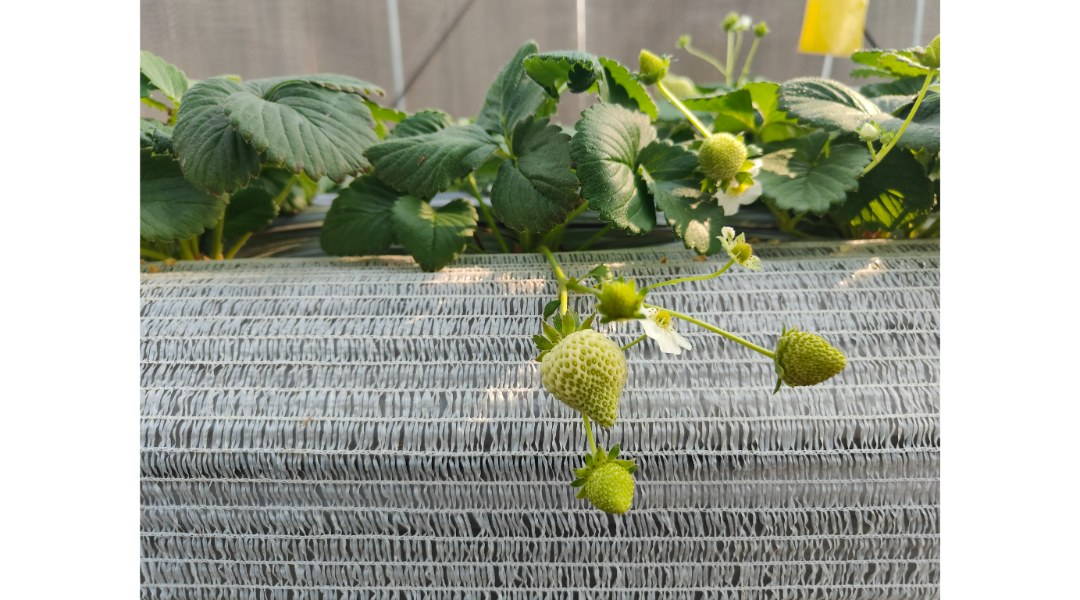berry: (519, 318, 628, 434), (759, 326, 860, 397), (558, 451, 642, 521), (696, 121, 754, 191), (590, 266, 642, 332), (715, 229, 771, 262)
flower: (627, 298, 693, 369), (706, 144, 770, 210)
strain: (661, 294, 772, 353), (871, 78, 926, 177), (659, 85, 708, 139), (538, 246, 566, 281)
